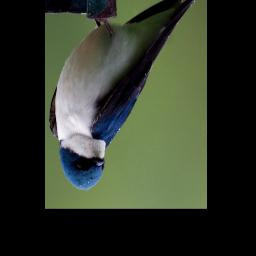Swallow: (49, 0, 203, 191)
